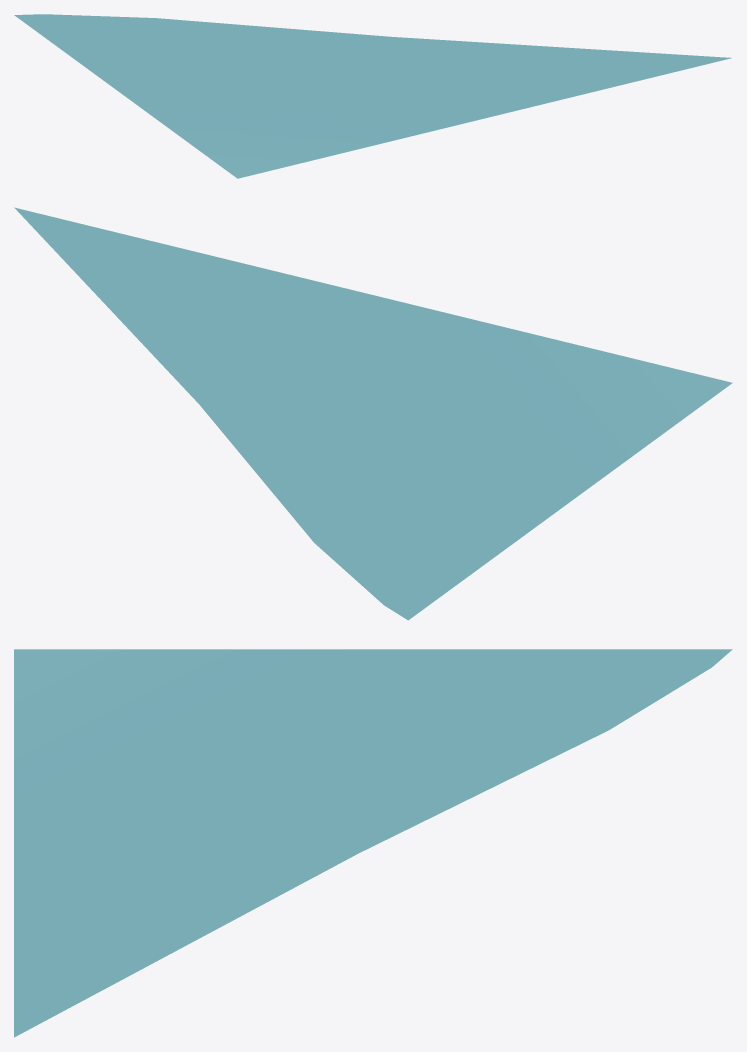
3 renders of one model, top to bottom at view 1: azimuth 30°, elevation 25°; view 2: azimuth 150°, elevation 25°; view 3: azimuth 270°, elevation 25°, orthographic. The views are drawn at different scales.
Parts seen in each view (by area): view 1: city; view 2: city; view 3: city.
Part boxes in pixels (x1,y1,x2,y2): city: [14, 14, 731, 178]; city: [14, 207, 732, 620]; city: [14, 649, 732, 1037].
Size of the model in its own units: 137 by 0 by 107.
